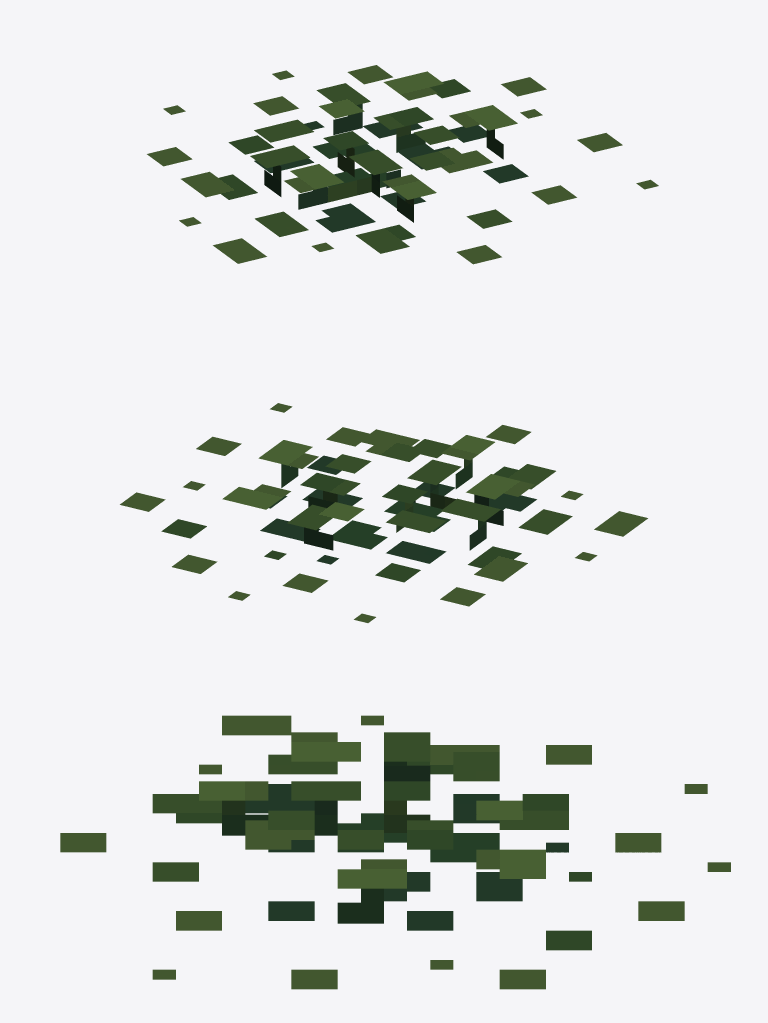
Rendered from ground-moss-1.gltf.
The picture shows the model from 3 angles, top to bottom: view 1: azimuth 30°, elevation 25°; view 2: azimuth 150°, elevation 25°; view 3: azimuth 270°, elevation 25°; orthographic projection. The views are drawn at different scales.
Visible parts, largest first — view 1: cube (×4), cube inverted; view 2: cube (×4), cube inverted; view 3: cube (×3), cube inverted (×2).
Boxes of the visible parts, x1=… form: cube (×4): x1=147, y1=65, x2=658, y2=264; cube inverted: x1=396, y1=125, x2=503, y2=159; cube (×4): x1=120, y1=403, x2=647, y2=622; cube inverted: x1=413, y1=493, x2=503, y2=525; cube (×3): x1=60, y1=715, x2=730, y2=989; cube inverted (×2): x1=222, y1=761, x2=430, y2=835.
Size of the model in its own units: 2 by 0.1329 by 2.
1 material, 1 textured.
